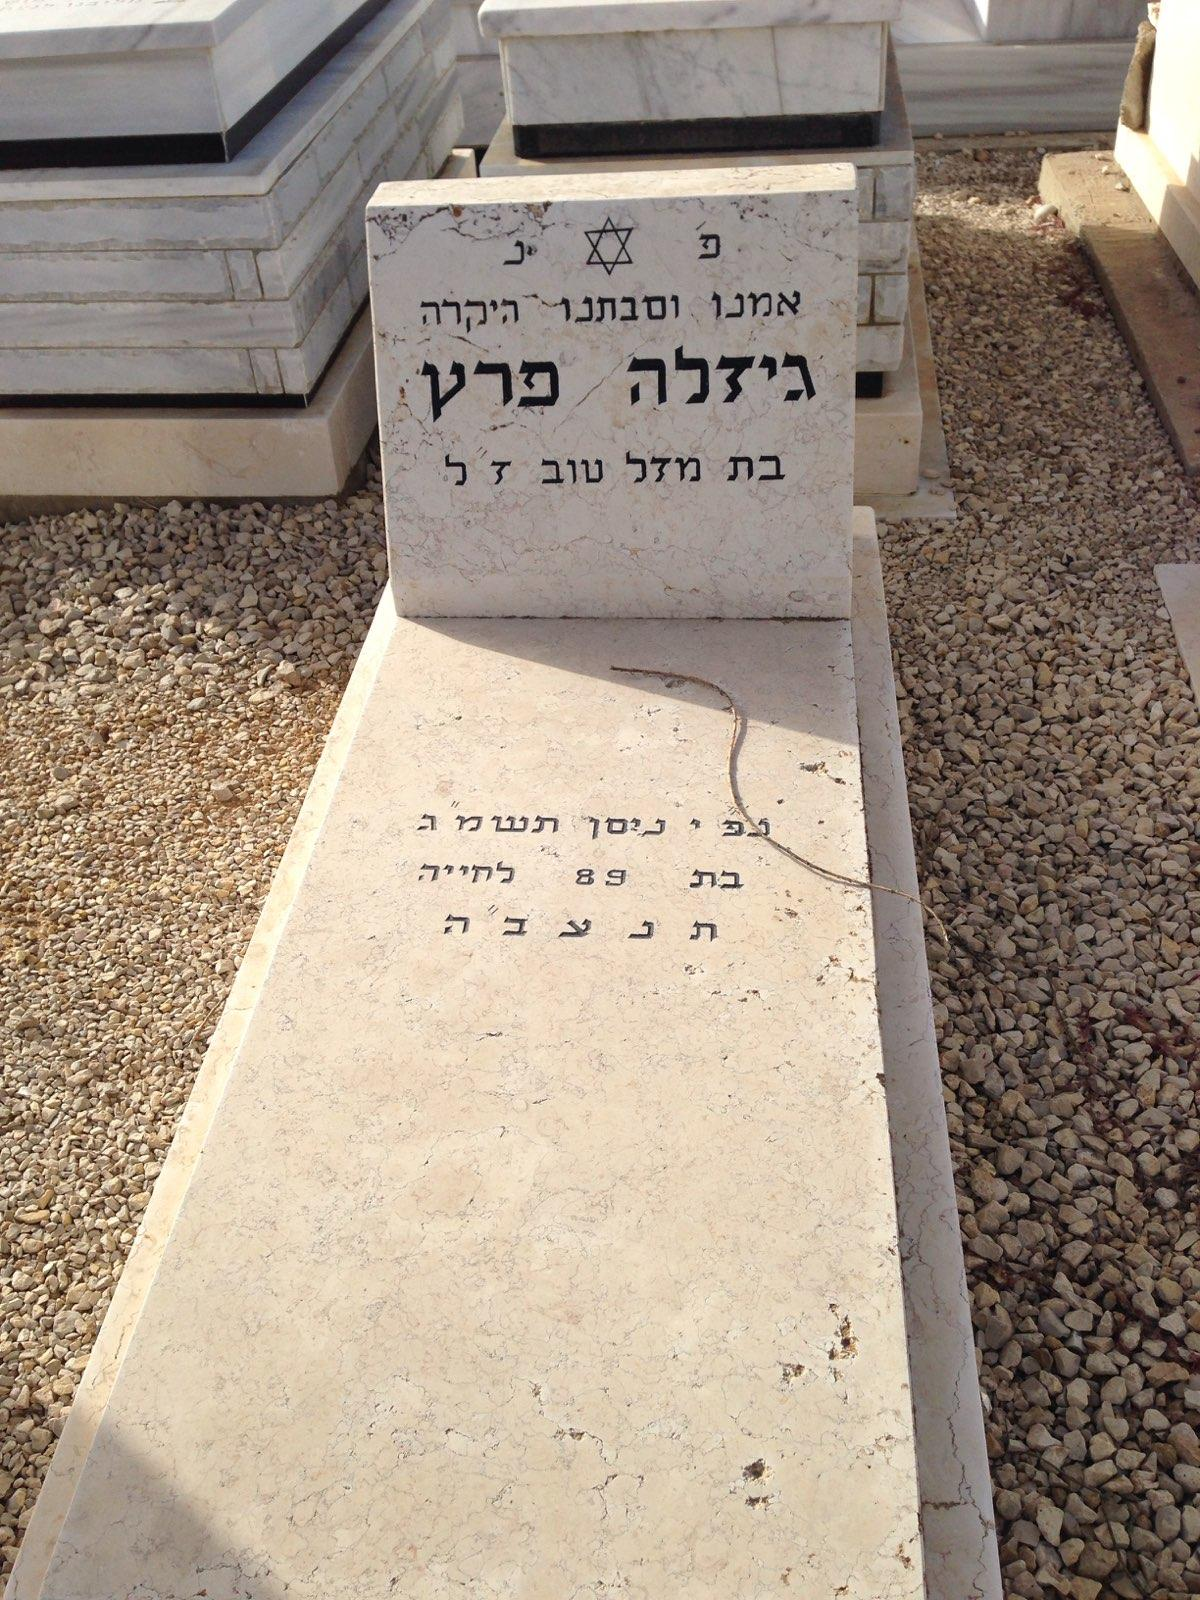vault: (28, 29, 1131, 1587)
